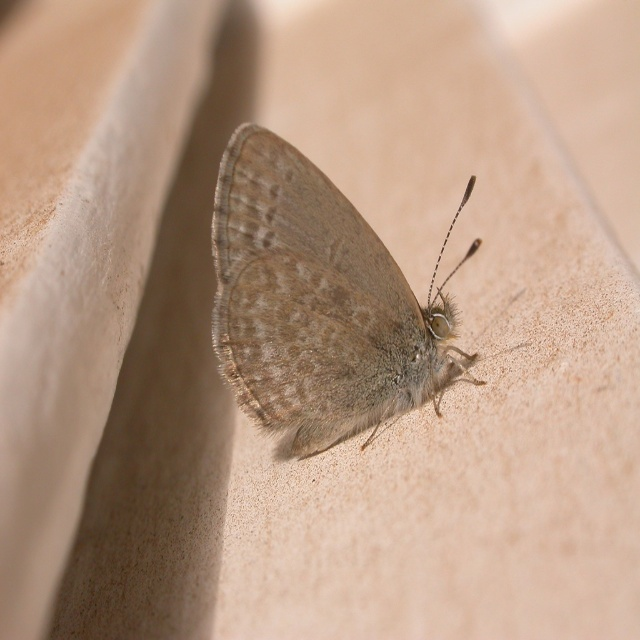Butterfly: (197, 118, 510, 465)
